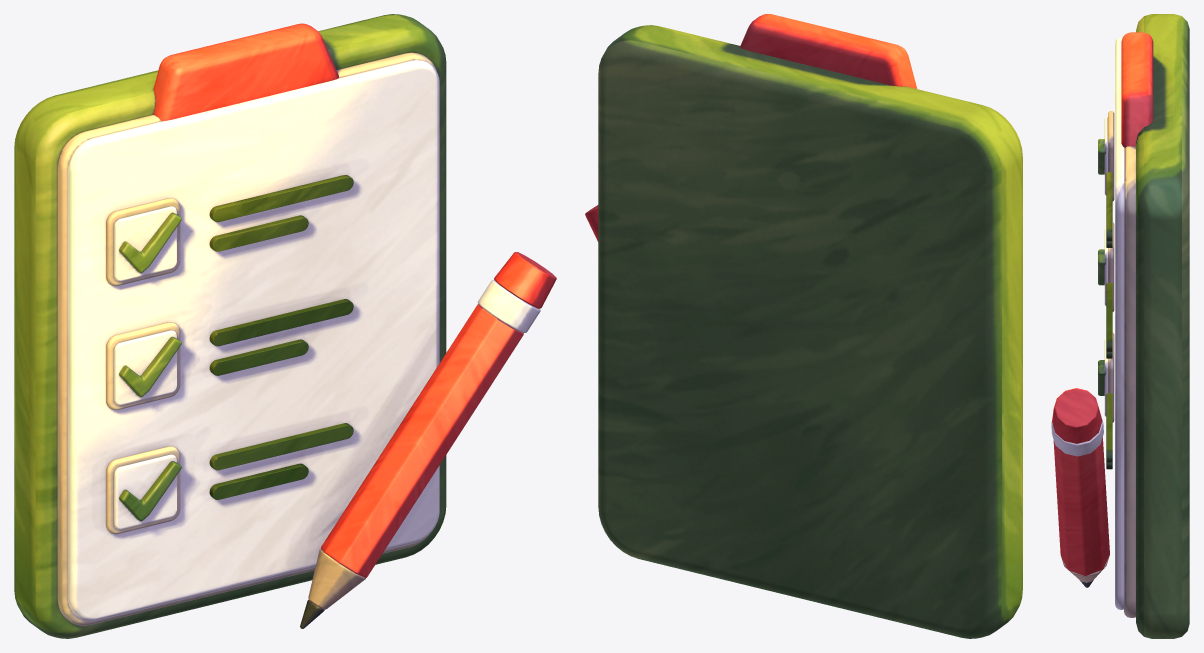
Rendered from how-to.glb.
The picture shows the model from 3 angles, left to right: view 1: azimuth 30°, elevation 25°; view 2: azimuth 150°, elevation 25°; view 3: azimuth 270°, elevation 25°; orthographic projection. The views are drawn at different scales.
Parts seen in each view (by area): view 1: Ivory sheet, Olive backing, Coral pencil barrel, Coral index tab.001, Paper edge, Checklist field • inset, Checklist field • inset.001, Checklist field • inset.002, Ruled entry.007, Ruled entry.005, Ruled entry.003, Coral end cap (+11 smaller); view 2: Olive backing, Coral index tab.001; view 3: Olive backing, Coral pencil barrel, Paper edge, Ivory sheet, Coral index tab.001, Coral end cap, Ivory ferrule, Checklist field, Ruled entry.007, Ruled entry.003, Ruled entry.005, Checklist field.002 (+8 smaller).
Part boxes in pixels (x1,y1,x2,y2): Ivory sheet: [67, 60, 439, 621]; Olive backing: [14, 14, 446, 638]; Coral pencil barrel: [321, 304, 523, 577]; Coral index tab.001: [153, 23, 338, 121]; Paper edge: [57, 52, 436, 625]; Checklist field • inset: [114, 206, 177, 281]; Checklist field • inset.001: [114, 330, 177, 405]; Checklist field • inset.002: [114, 454, 177, 529]; Ruled entry.007: [209, 423, 353, 470]; Ruled entry.005: [209, 299, 353, 346]; Ruled entry.003: [209, 175, 353, 222]; Coral end cap: [494, 252, 556, 308]; Olive backing: [598, 25, 1022, 638]; Coral index tab.001: [740, 14, 917, 88]; Olive backing: [1136, 14, 1189, 638]; Coral pencil barrel: [1053, 437, 1109, 575]; Paper edge: [1124, 146, 1135, 617]; Ivory sheet: [1115, 37, 1124, 609]; Coral index tab.001: [1121, 32, 1153, 147]; Coral end cap: [1052, 388, 1102, 443]; Ivory ferrule: [1051, 412, 1103, 456]; Checklist field: [1108, 111, 1114, 201]; Ruled entry.007: [1106, 393, 1112, 462]; Ruled entry.003: [1106, 172, 1112, 241]; Ruled entry.005: [1106, 283, 1112, 351]; Checklist field.002: [1108, 333, 1114, 422].
Size of the model in its own units: 2.03 by 2.31 by 0.568.
7 materials, 7 textured.
